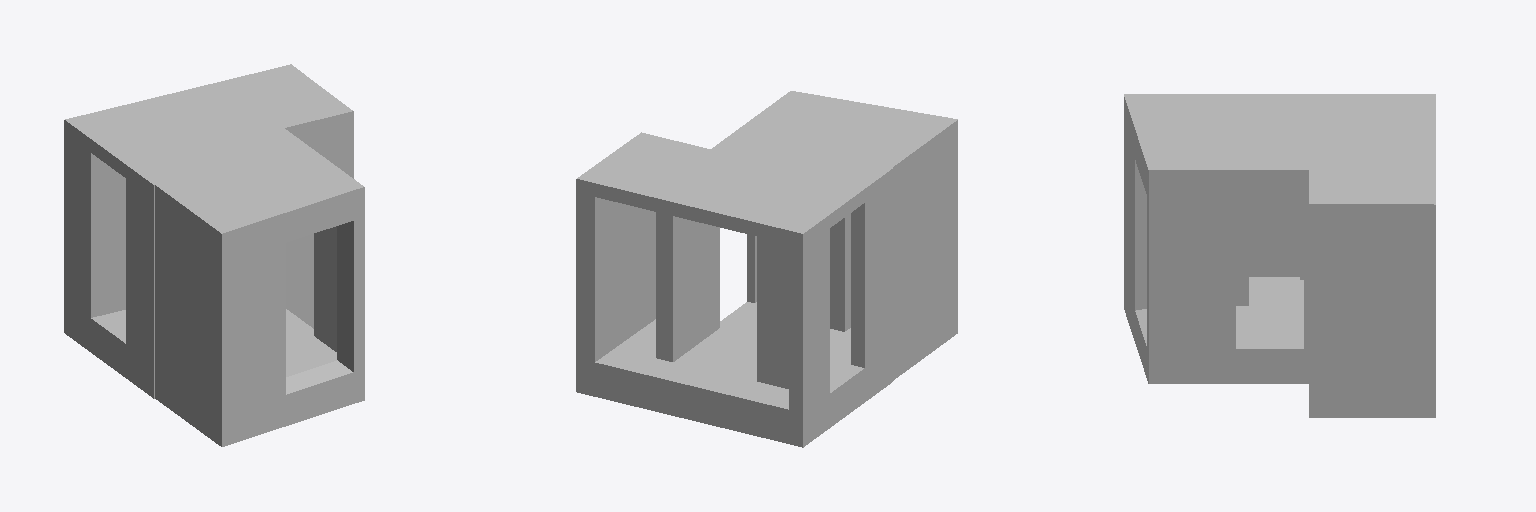
Rendered from entree_rdc.obj.
3 renders of one model, left to right at view 1: azimuth 30°, elevation 25°; view 2: azimuth 150°, elevation 25°; view 3: azimuth 270°, elevation 25°, orthographic.
Visible parts, largest first — view 1: Entree_RDC_Cube.025; view 2: Entree_RDC_Cube.025; view 3: Entree_RDC_Cube.025.
Boxes of the visible parts, x1=… form: Entree_RDC_Cube.025: x1=64, y1=64, x2=364, y2=446; Entree_RDC_Cube.025: x1=576, y1=91, x2=957, y2=447; Entree_RDC_Cube.025: x1=1124, y1=94, x2=1435, y2=417.
Size of the model in its own units: 3.44 by 3.1 by 4.11.